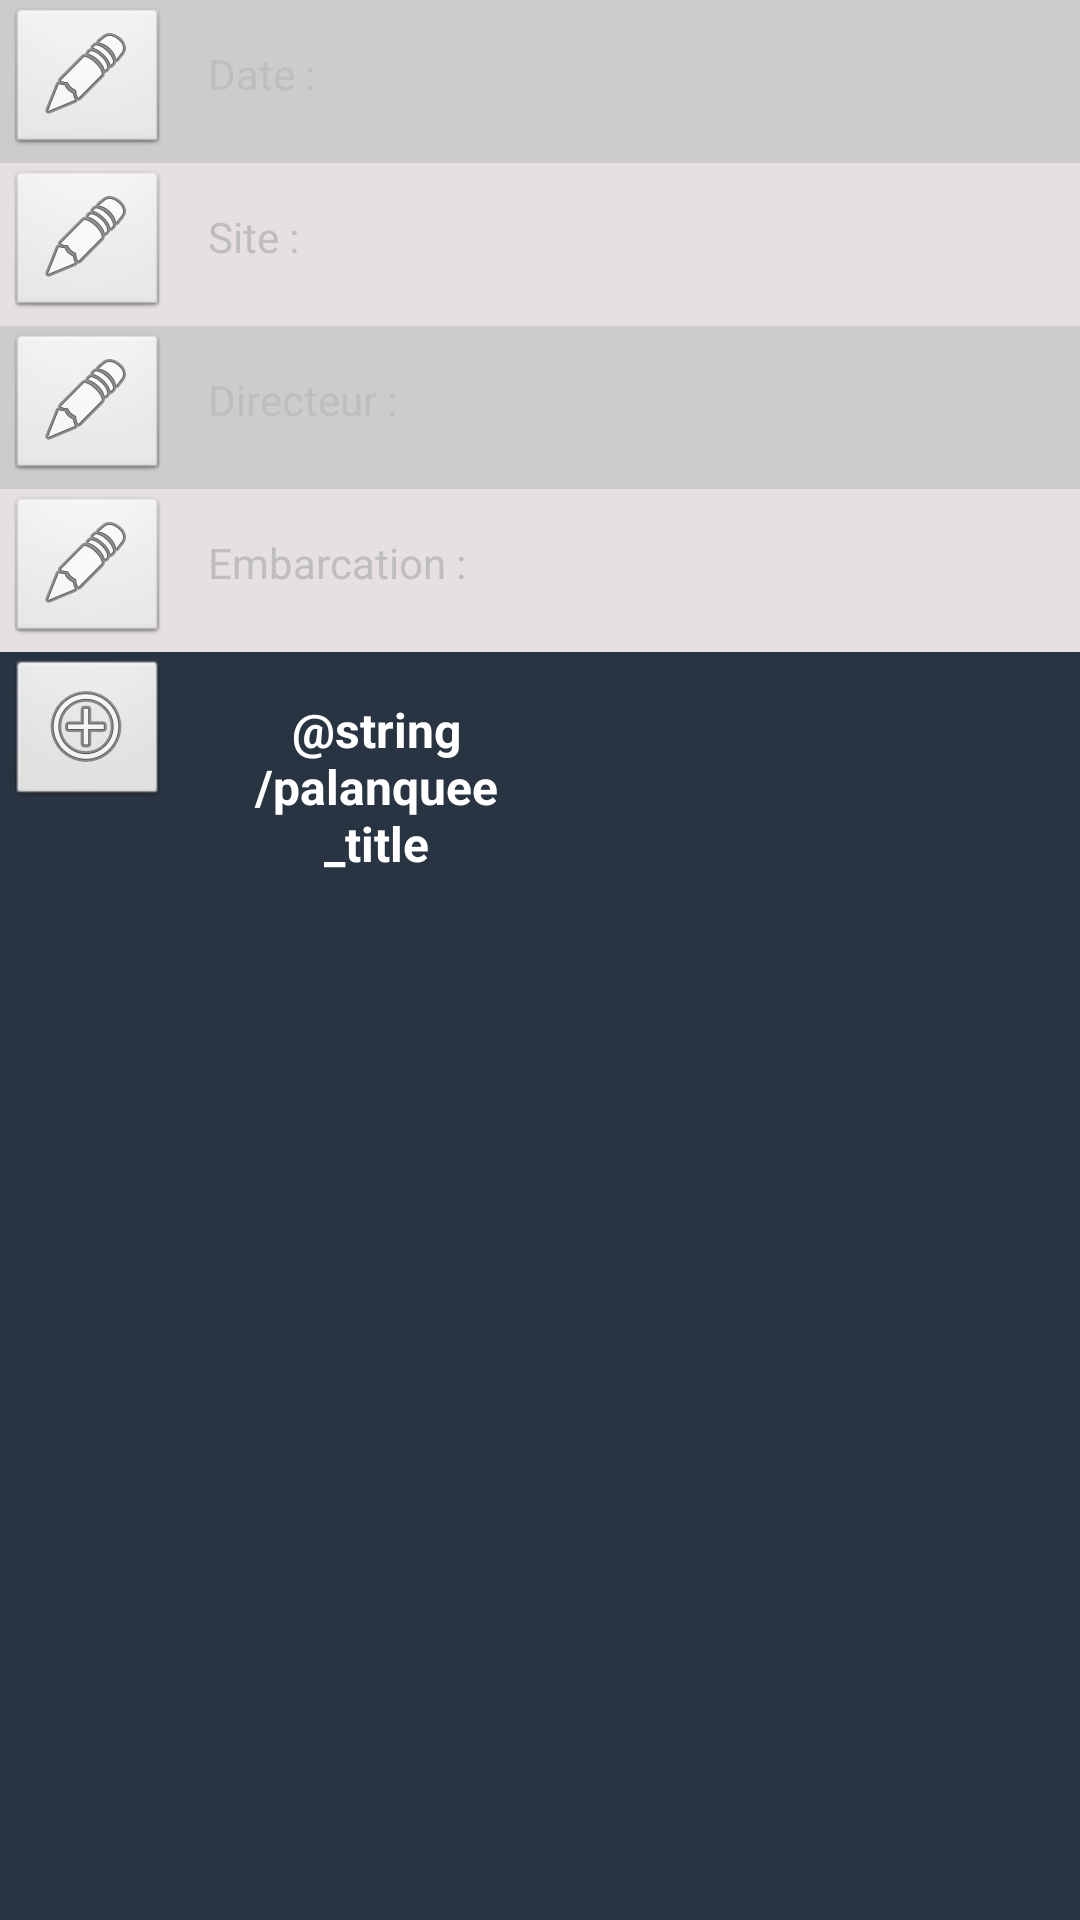

Screen size 1080*1920. Icon name, then its box in pixels as [x1=x1, y1=y1, x2=x2, y2=y2]:
add: [x1=16, y1=661, x2=158, y2=792]
edit: [x1=15, y1=11, x2=159, y2=143], [x1=14, y1=171, x2=160, y2=308], [x1=15, y1=337, x2=159, y2=469], [x1=14, y1=497, x2=160, y2=634]
